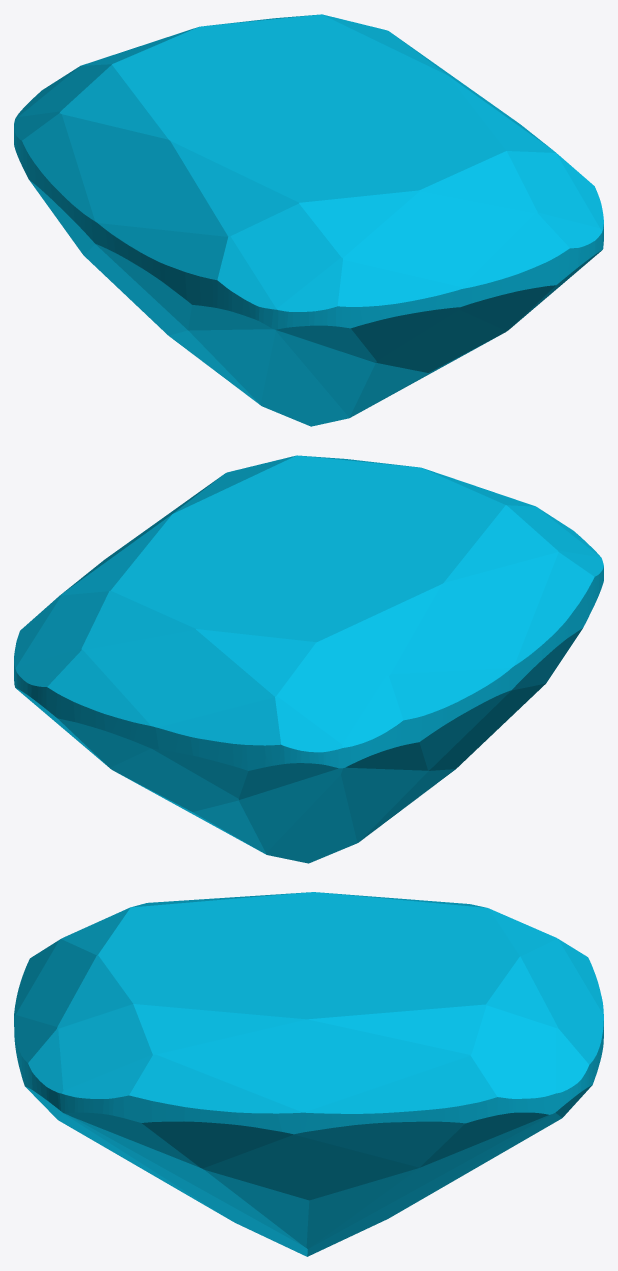
The model's file is Head_No Halo_Elongated Cushion_1.0ct_Diamond.glb.
3 views of the same model, one above another, from view 1: azimuth 30°, elevation 25°; view 2: azimuth 150°, elevation 25°; view 3: azimuth 270°, elevation 25° (orthographic). The views are drawn at different scales.
Size of the model in its own units: 0.0051 by 0.00371 by 0.00659.
